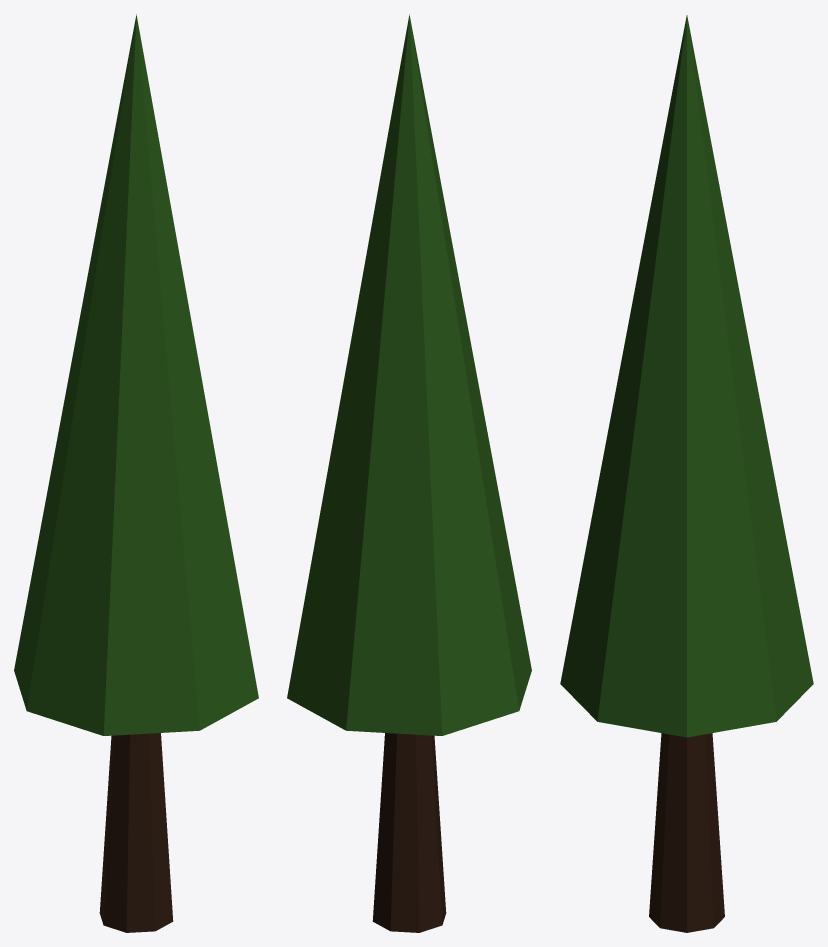
The model's file is smalltree.dae.
3 views of the same model, side by side, from view 1: azimuth 30°, elevation 25°; view 2: azimuth 150°, elevation 25°; view 3: azimuth 270°, elevation 25° (orthographic).
Visible parts, largest first — view 1: Cylinder_008; view 2: Cylinder_008; view 3: Cylinder_008.
Part boxes in pixels (x1,y1,x2,y2): Cylinder_008: (14, 14, 258, 932); Cylinder_008: (287, 14, 531, 932); Cylinder_008: (560, 15, 813, 932).
Size of the model in its own units: 2.84 by 2.84 by 11.18.
